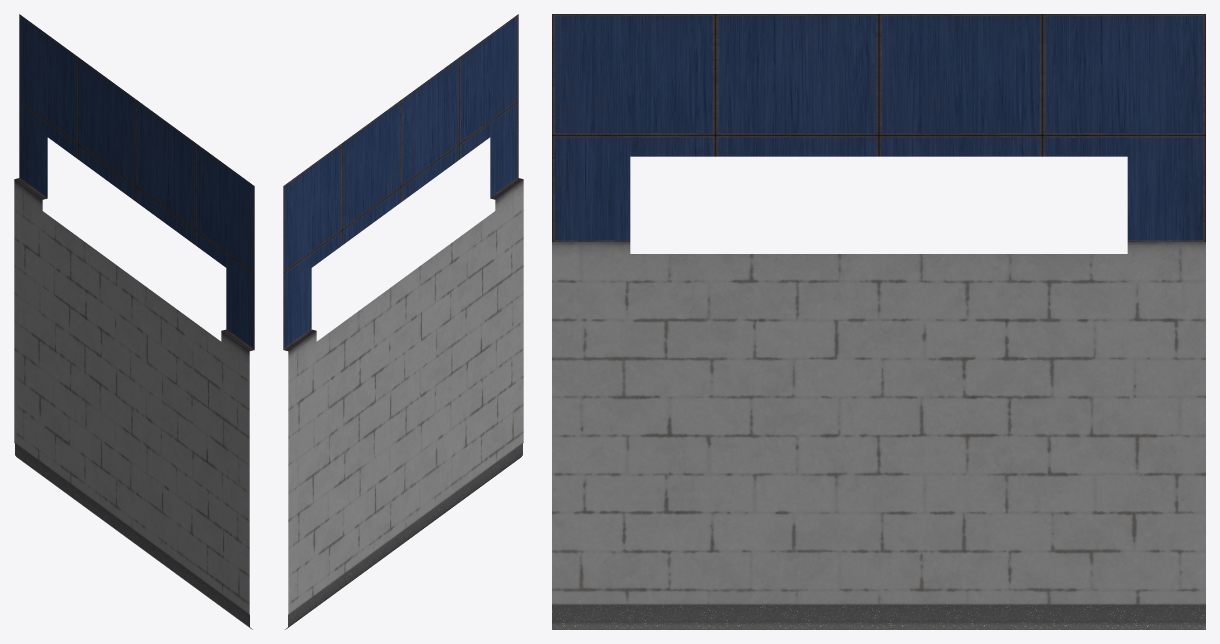
File: Cafateria 4M Window D.fbx
3 views of the same model, side by side, from view 1: azimuth 30°, elevation 25°; view 2: azimuth 150°, elevation 25°; view 3: azimuth 270°, elevation 25° (orthographic). The views are drawn at different scales.
Visible parts, largest first — view 1: Cafateria_4M_Window_D; view 2: Cafateria_4M_Window_D; view 3: Cafateria_4M_Window_D.
Boxes of the visible parts, bbox=[...] form: Cafateria_4M_Window_D: bbox=[14, 14, 254, 629]; Cafateria_4M_Window_D: bbox=[283, 14, 523, 629]; Cafateria_4M_Window_D: bbox=[552, 14, 1205, 629].
Bounding box in the file's own units: 5 × 416 × 400.
